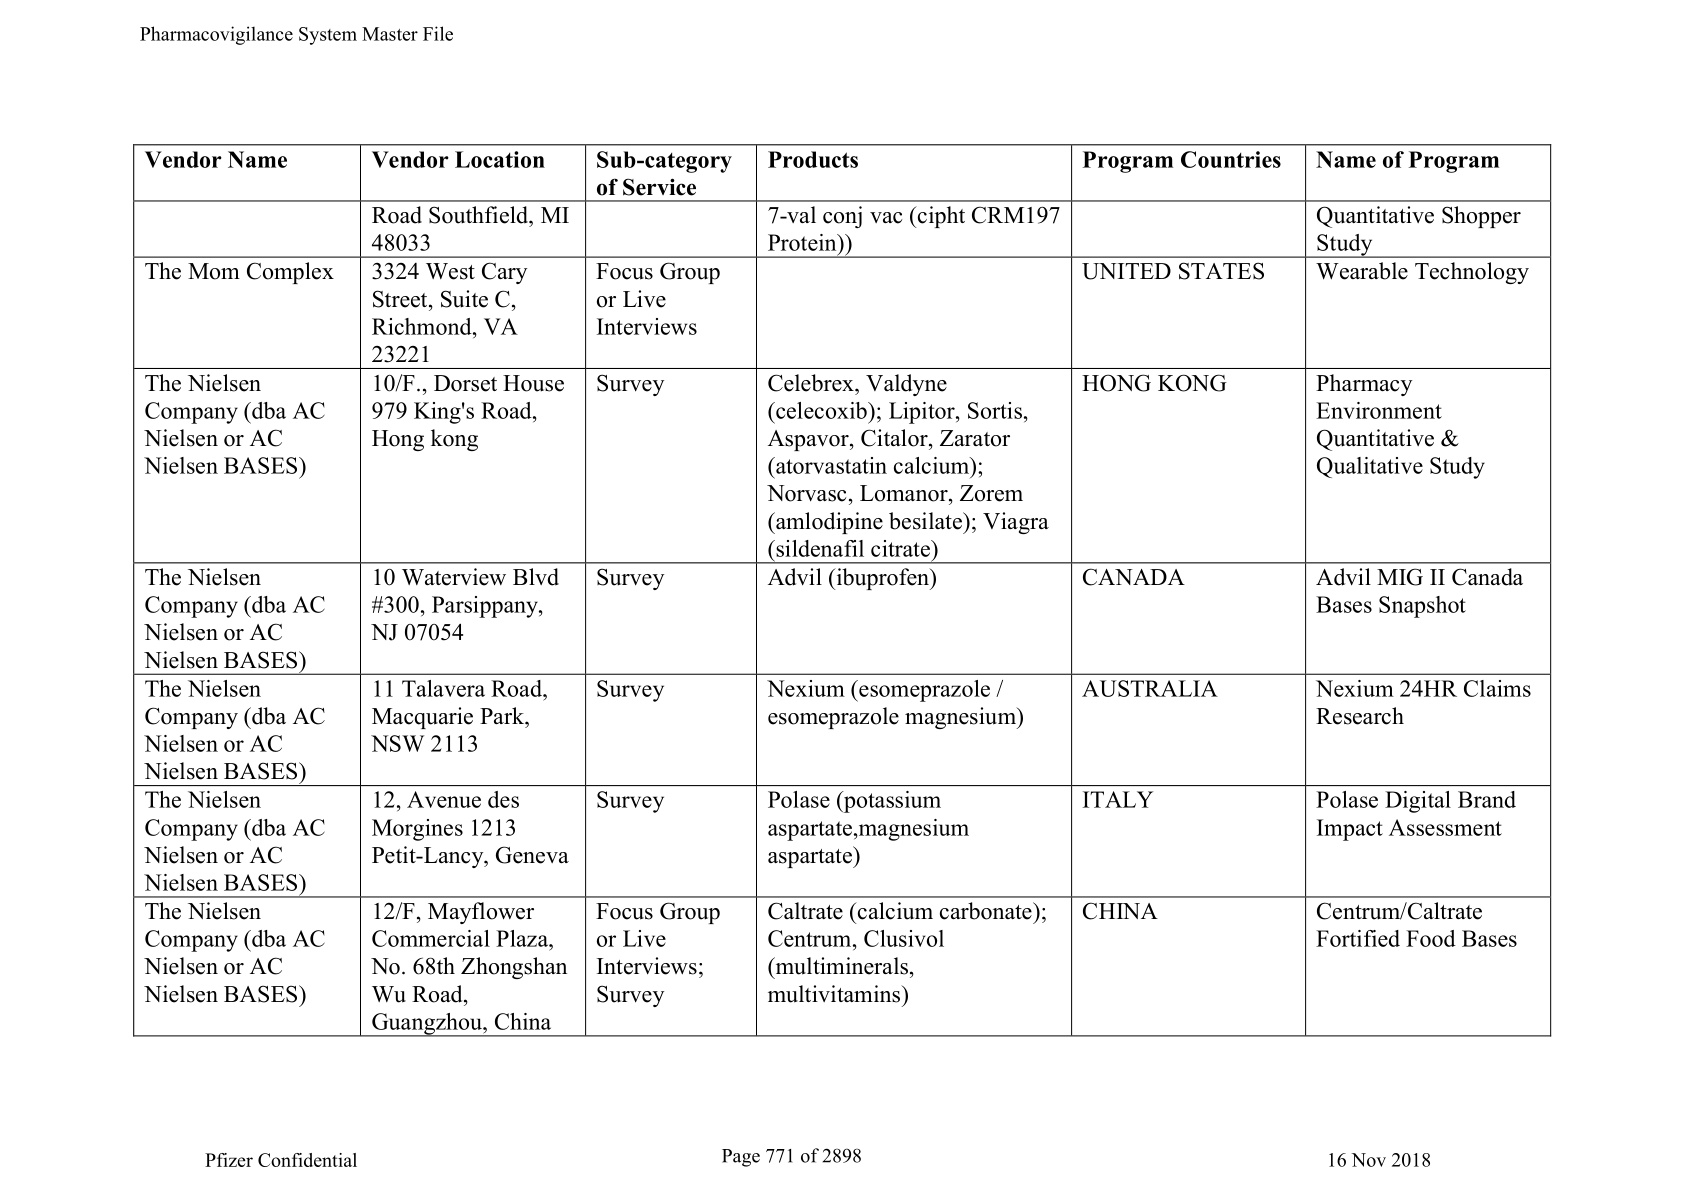full_lined: (133, 143, 1552, 1038)
